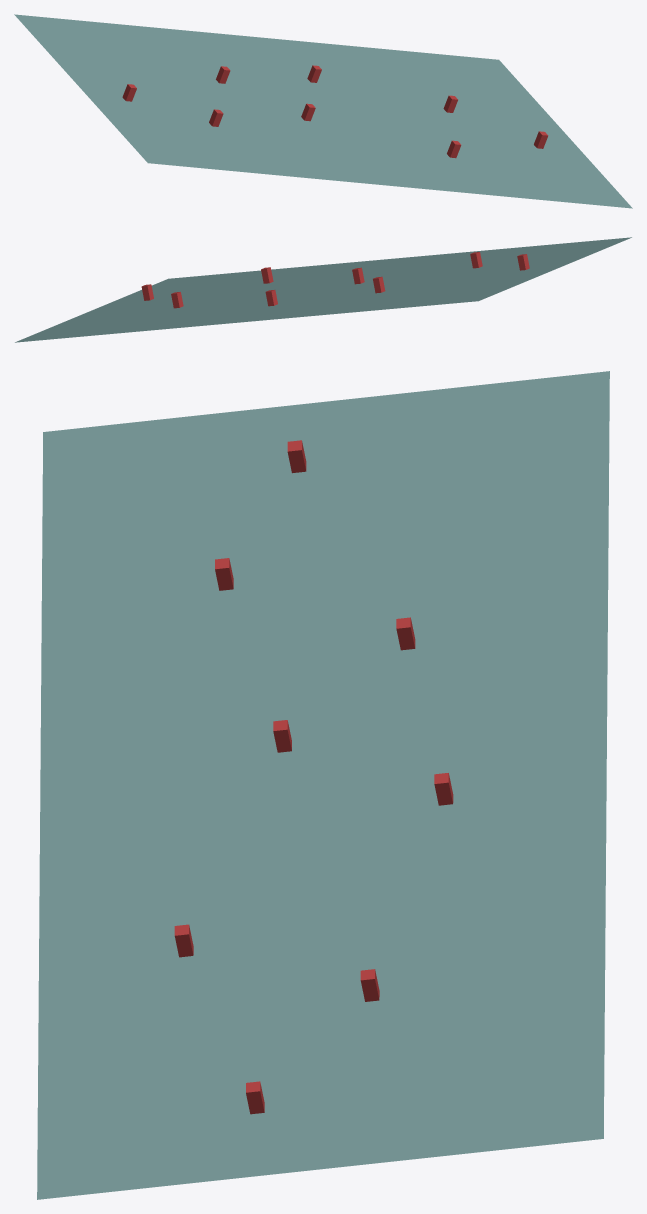
File: bpg_base_posts.glb
3 views of the same model, one above another, from view 1: azimuth 30°, elevation 25°; view 2: azimuth 150°, elevation 25°; view 3: azimuth 270°, elevation 25° (orthographic). The views are drawn at different scales.
Parts seen in each view (by area): view 1: Base; view 2: Base; view 3: Base.
Boxes of the visible parts, box(x1,y1,x2,y2) form: Base: box(14, 14, 632, 208); Base: box(15, 237, 631, 342); Base: box(37, 371, 609, 1199).
Bounding box in the file's own units: 234 × 90.18 × 121.
